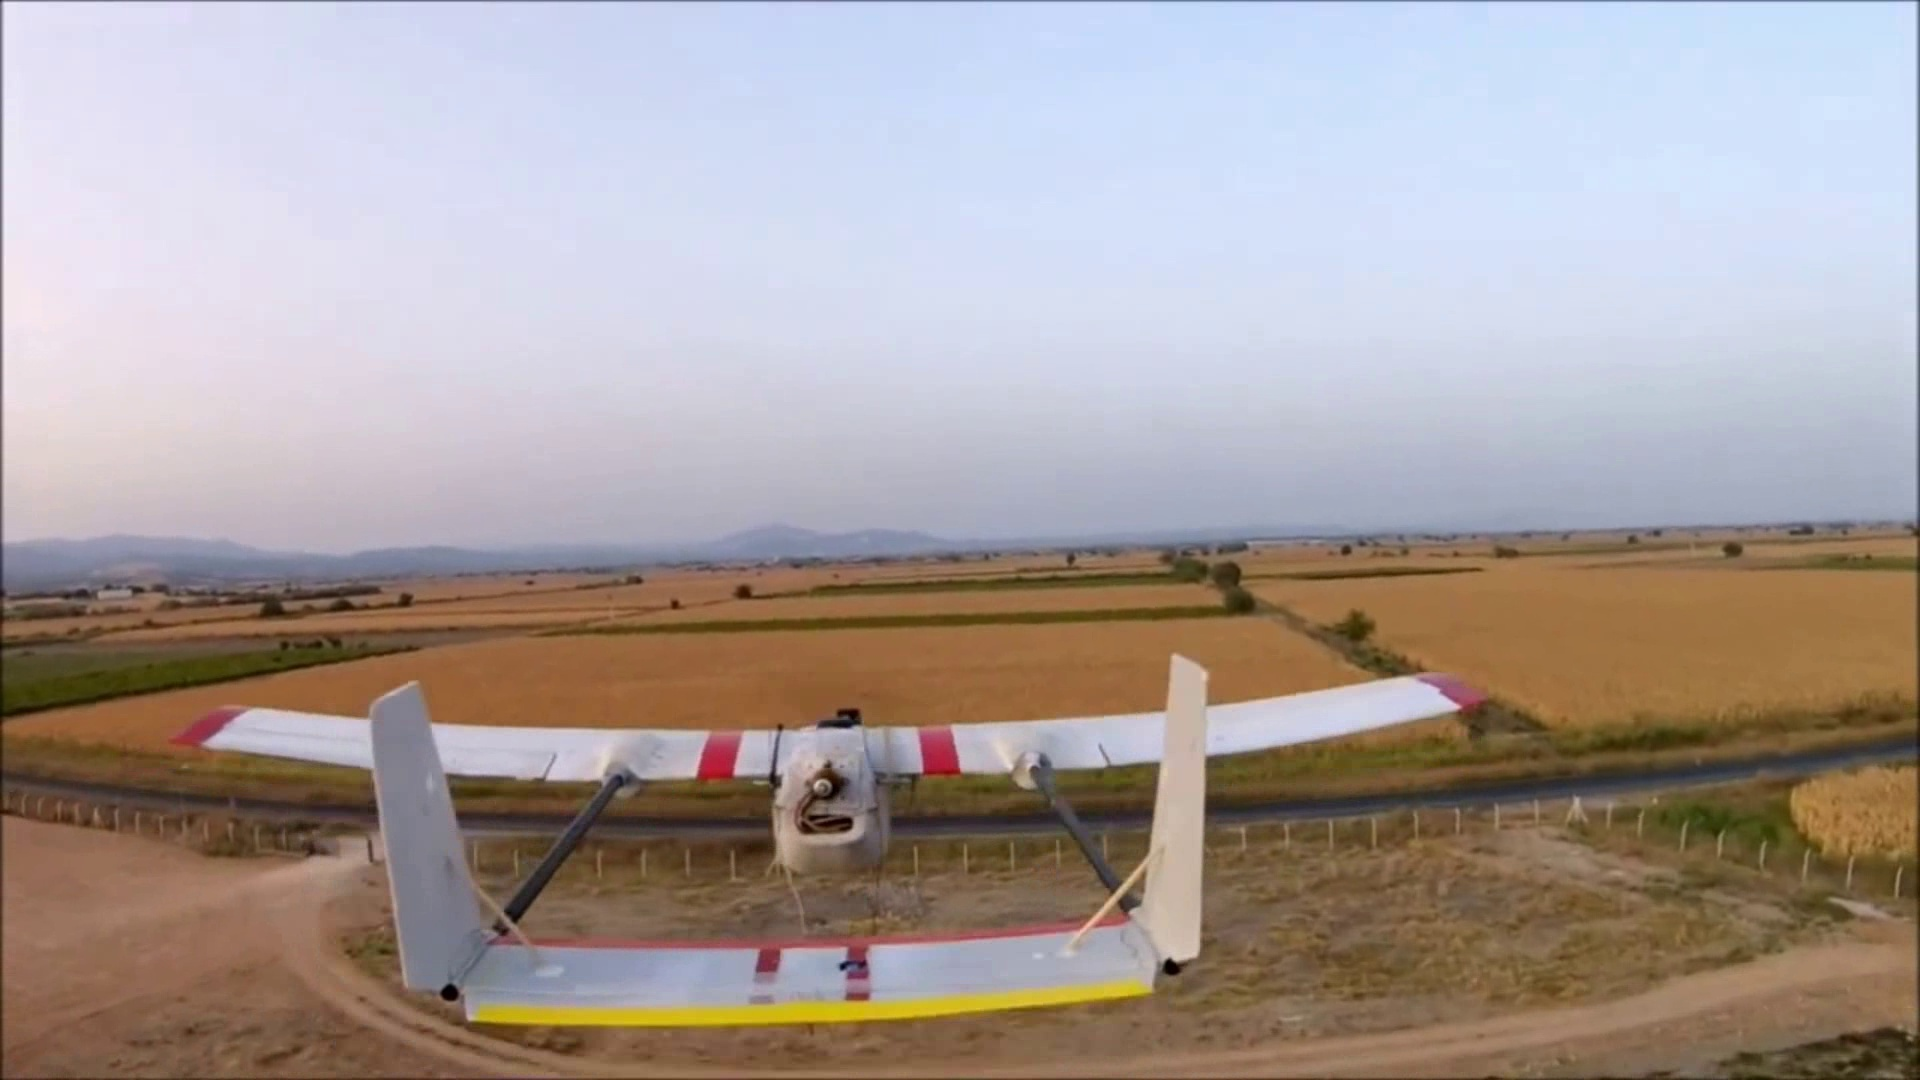airplane: (51, 644, 1489, 1043)
